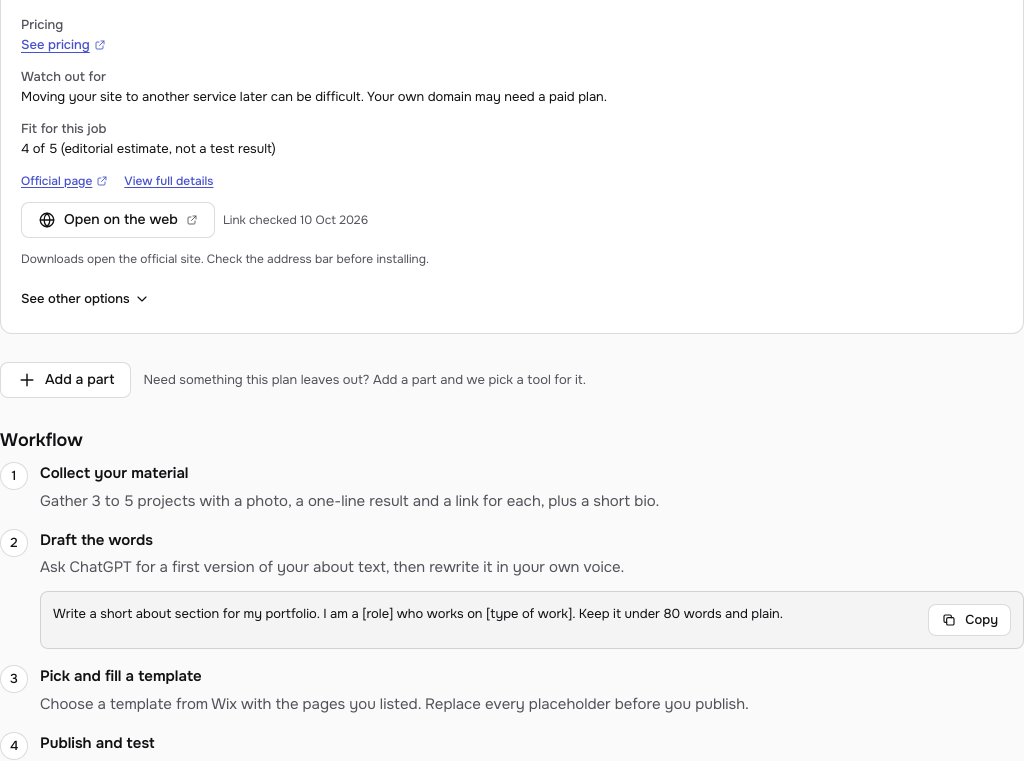
Test: Add a part › says when nothing matches
(page scrolled)
Click the button "Add a part" at x=66, y=380, box [0,362,132,398]
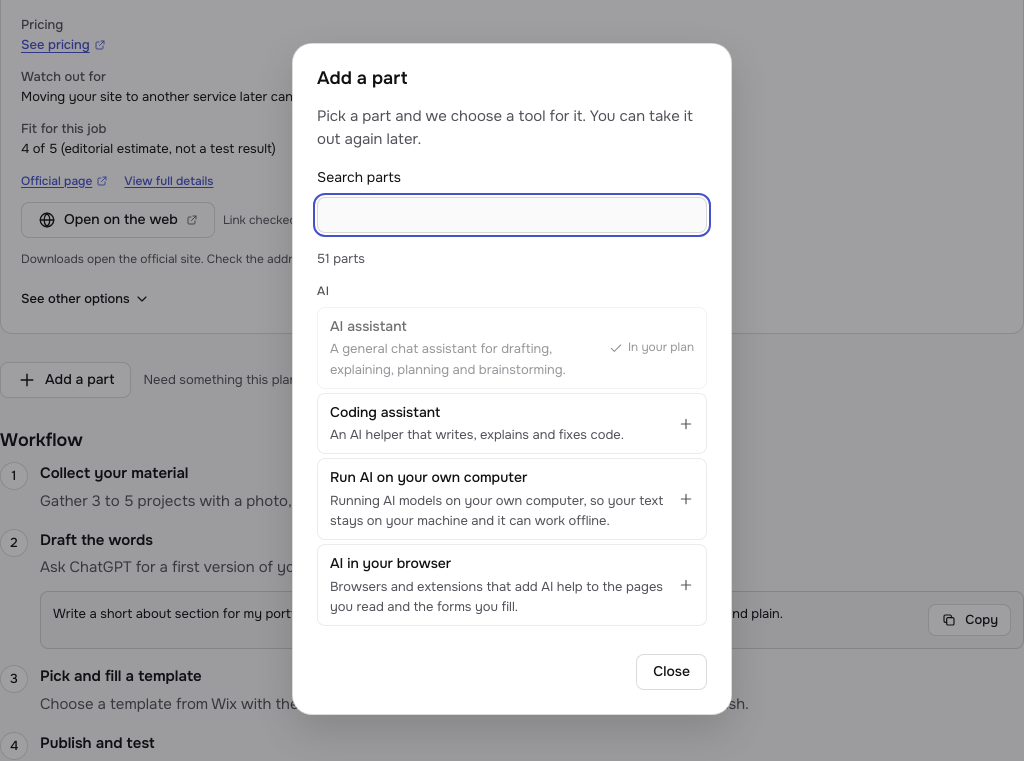
Type "zzzzqq" into the search field labelled "Search parts" at x=512, y=215, box [317,197,707,233]
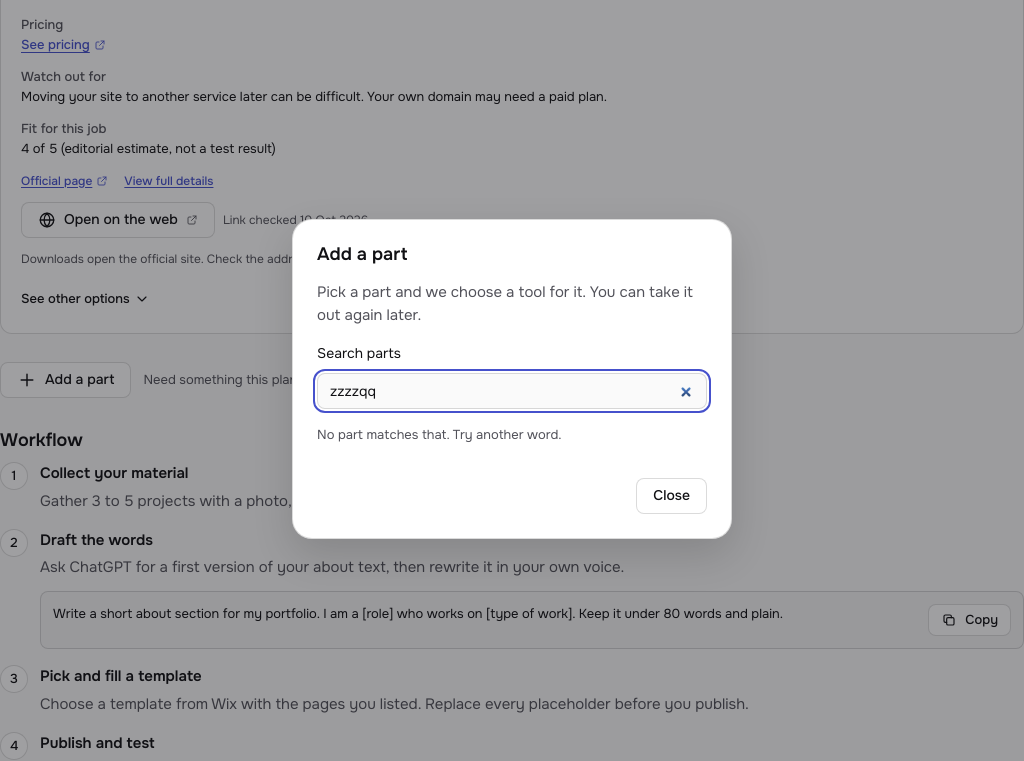
Expected: the text "No part matches that. Try another word." is shown, [317,426,562,443]
